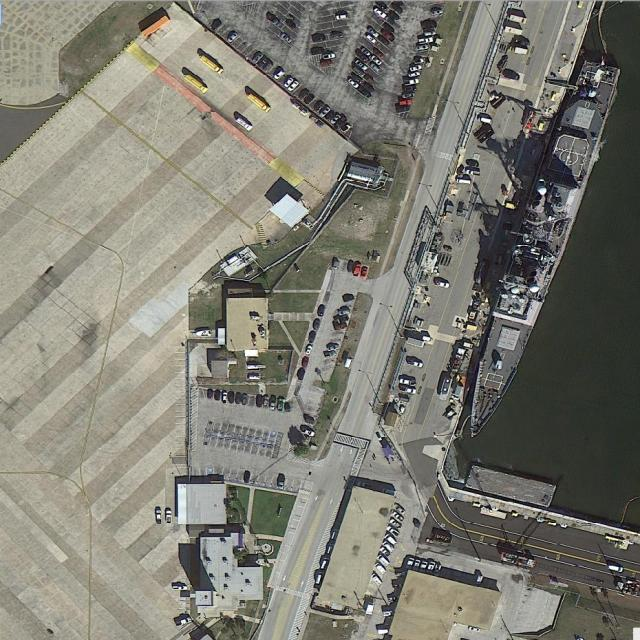Cruiser: (455, 56, 623, 443)
